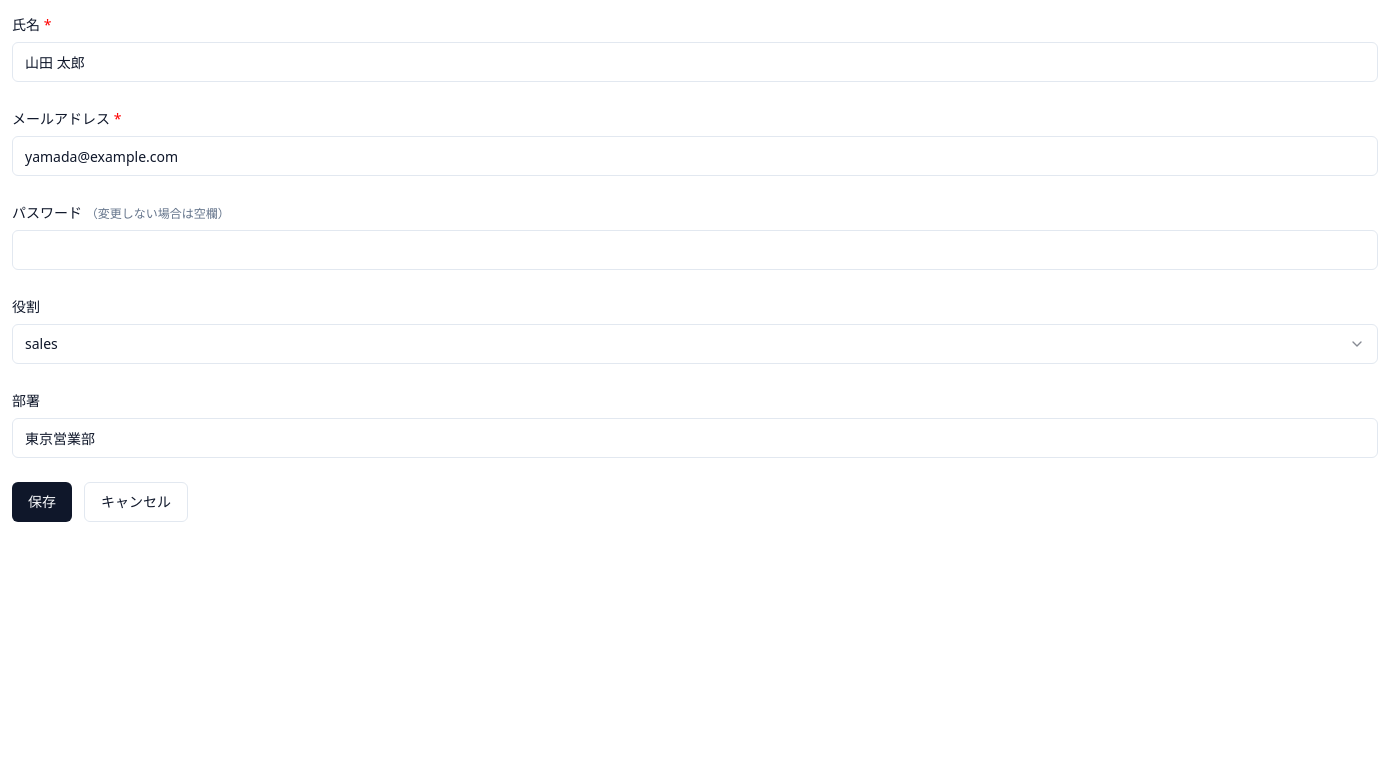
Scenario: UserForm – 編集モード (mode="edit") › 氏名をクリアして保存するとエラーメッセージを表示する
Clear the field labelled "氏名 *" at (695, 62), box x1=12 y1=42 x2=1378 y2=82
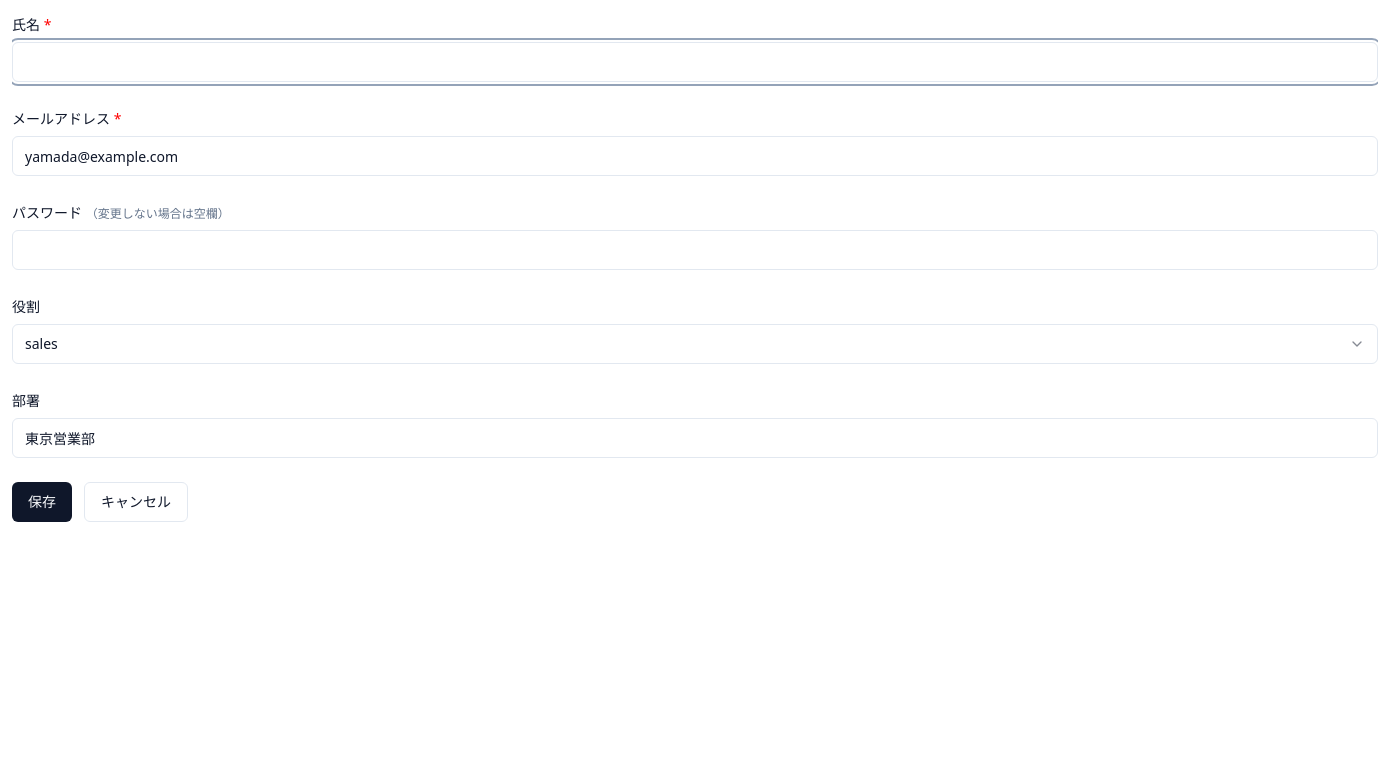
Click the button "保存" at (42, 502), box x1=12 y1=482 x2=72 y2=522
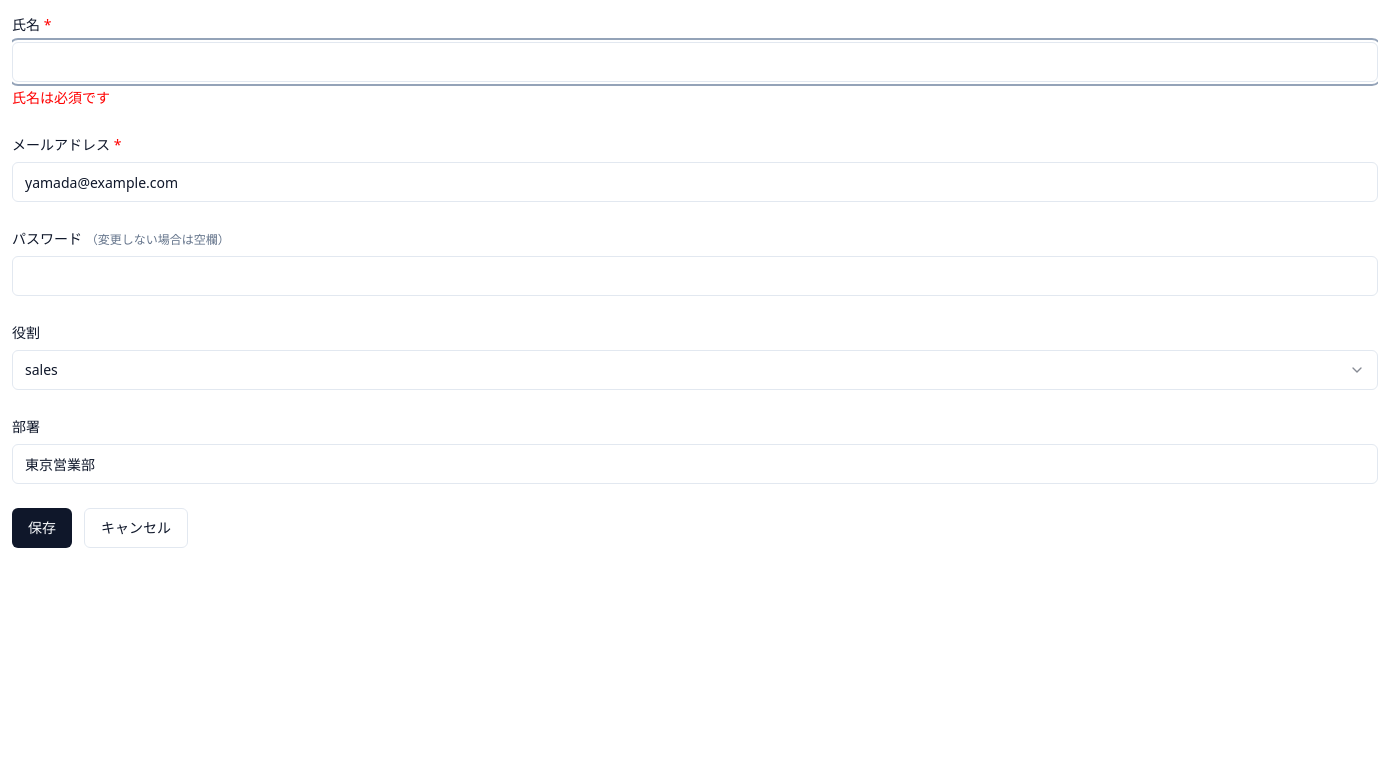
Check: the text "氏名は必須です" is shown, box x1=12 y1=88 x2=110 y2=107
